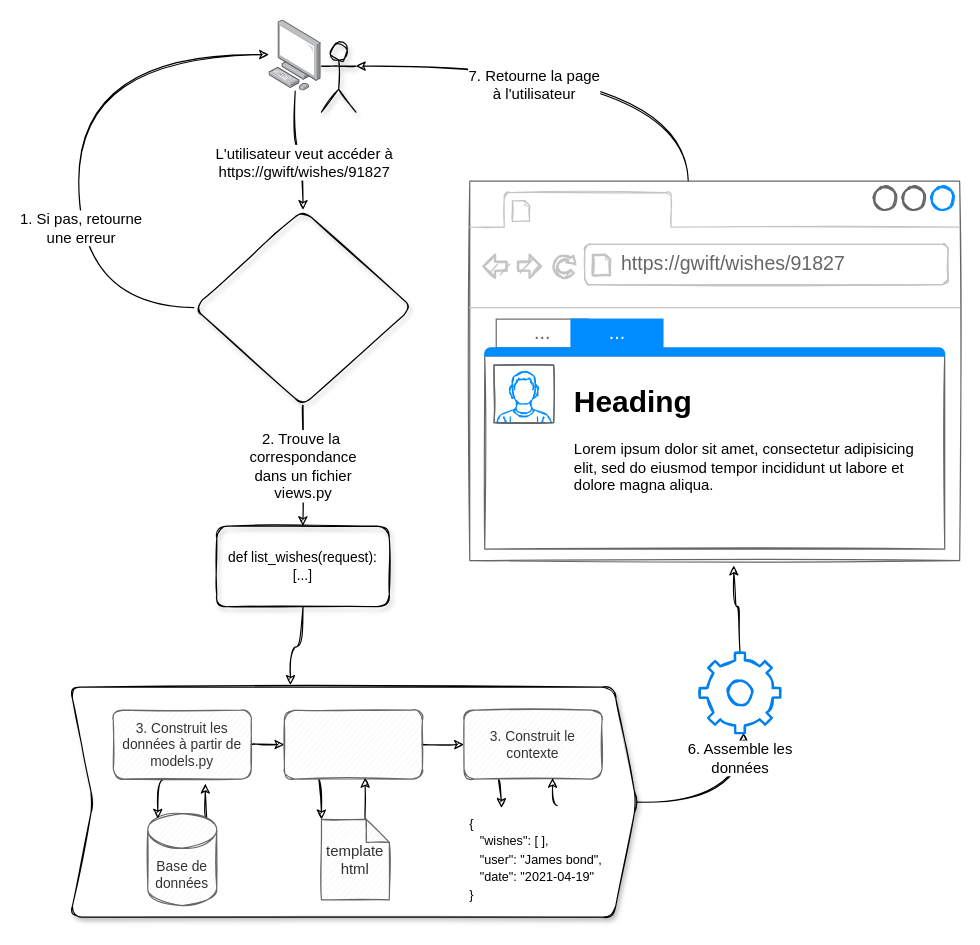
This 980x945 diagram has some shape labels left out. Each missing label, with the centre of its shape:
"0. Est-ce que ce pattern existe dans le fichier urls.py ?" belongs at pixel 303 308.
"4. Récupère le template correspondant" belongs at pixel 352 744.
"Django App" belongs at pixel 601 209.
